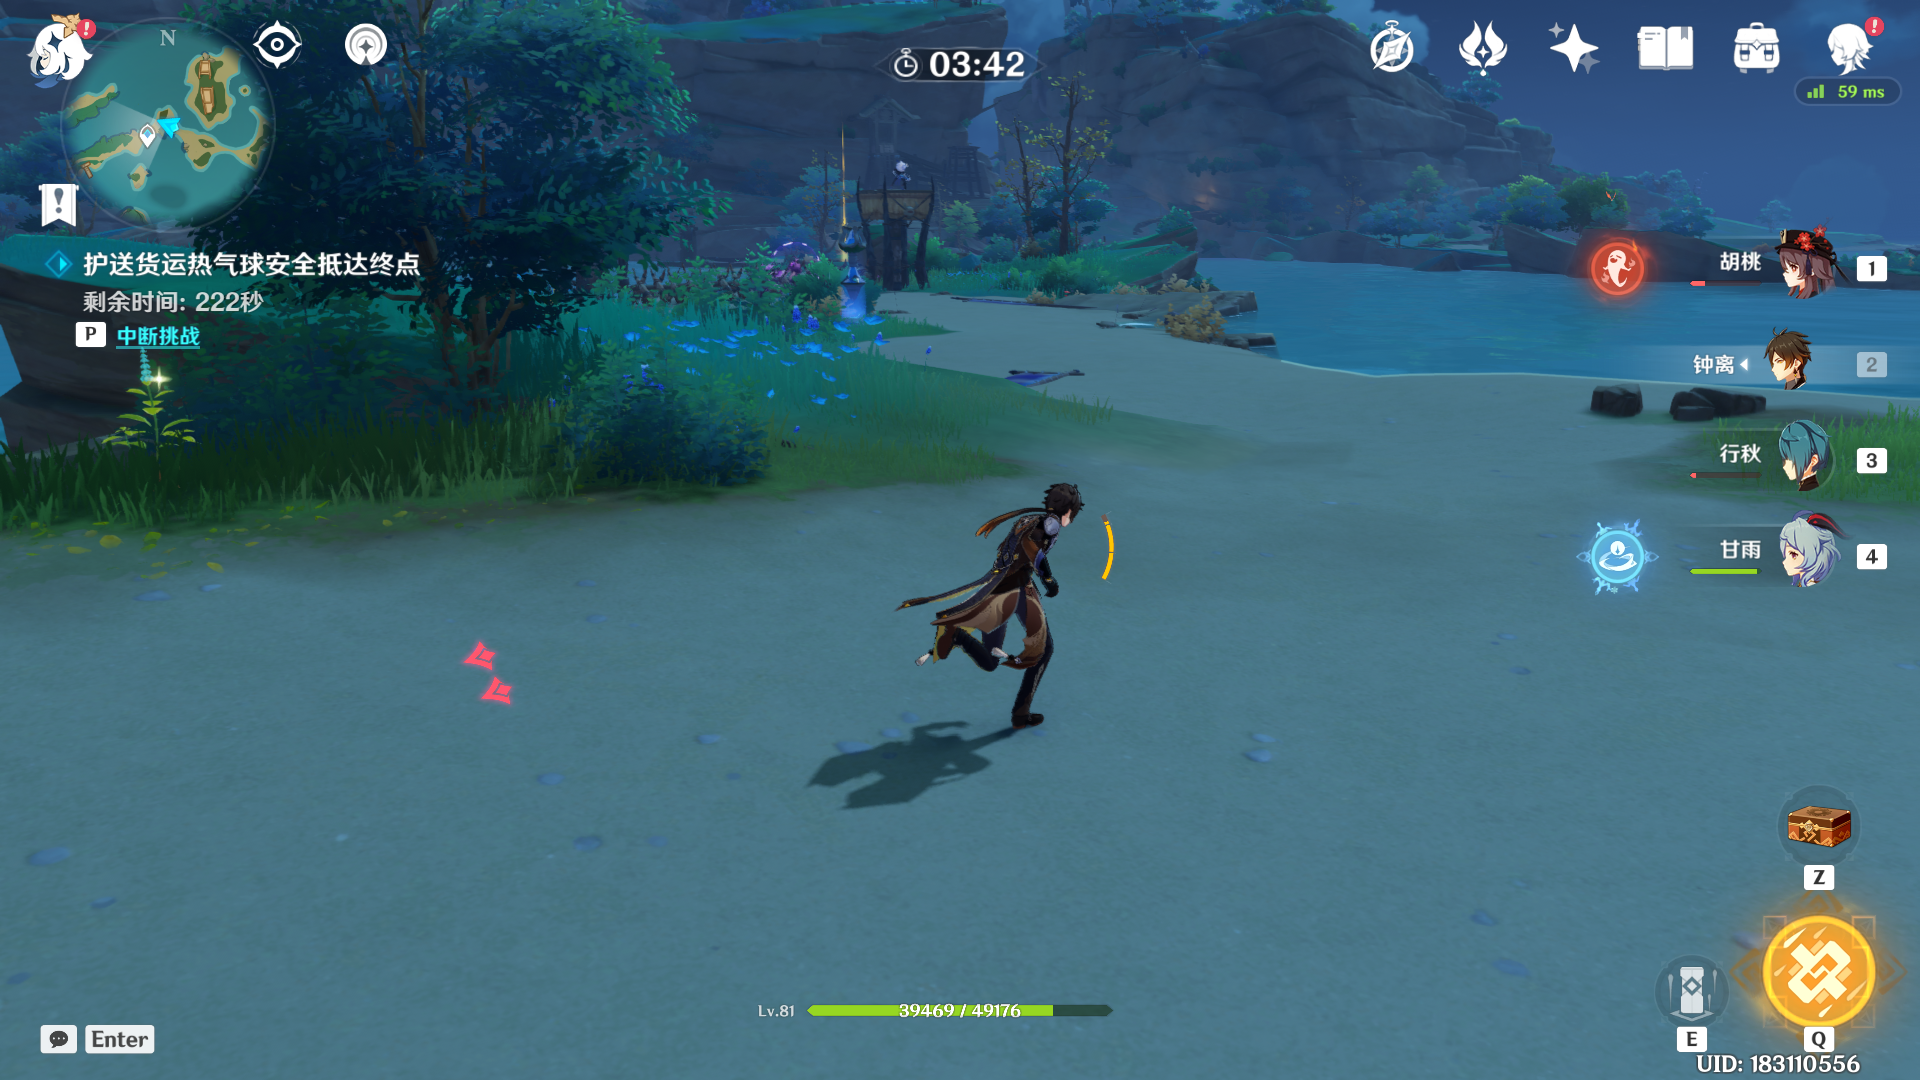character: (913, 433, 1126, 785)
